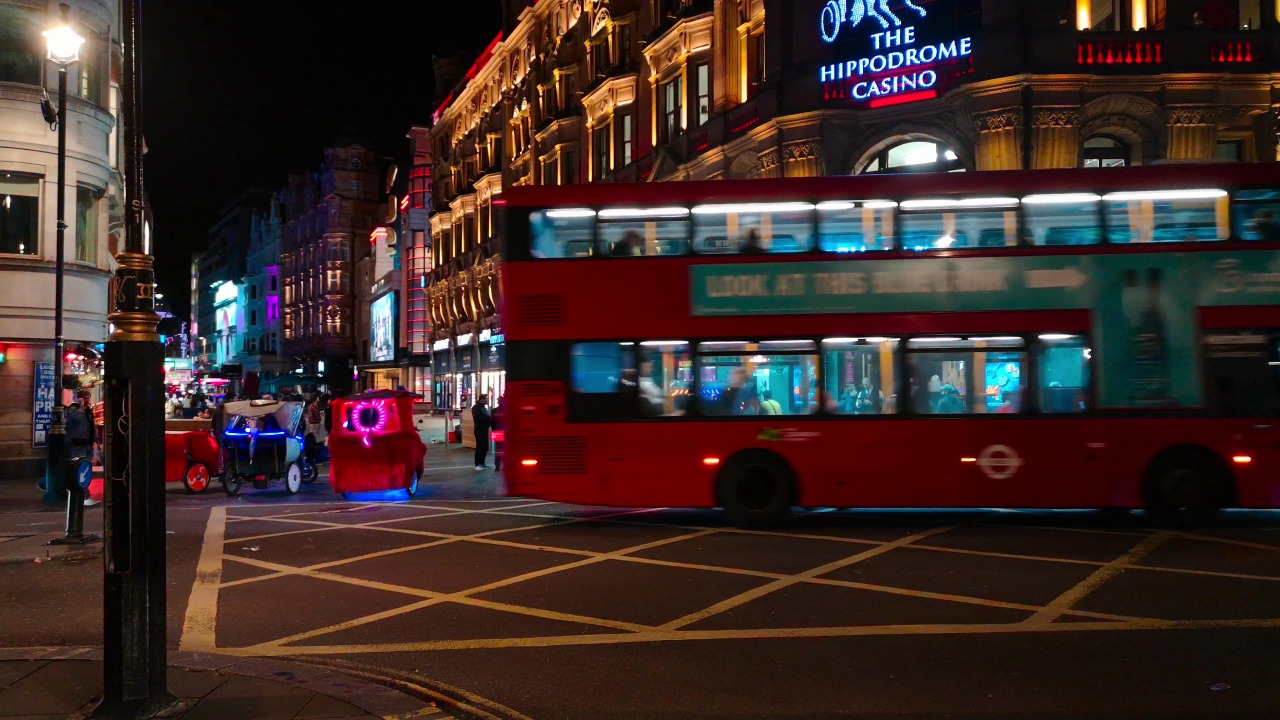car: (491, 177, 1280, 528), (87, 386, 215, 492), (317, 395, 419, 499), (228, 397, 314, 488)
person: (467, 384, 491, 479)
